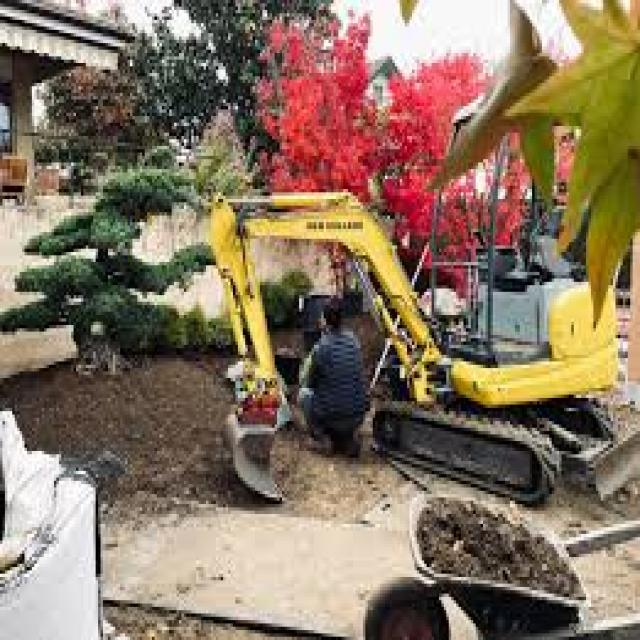excavator: (208, 95, 640, 505)
plant: (0, 146, 215, 360)
